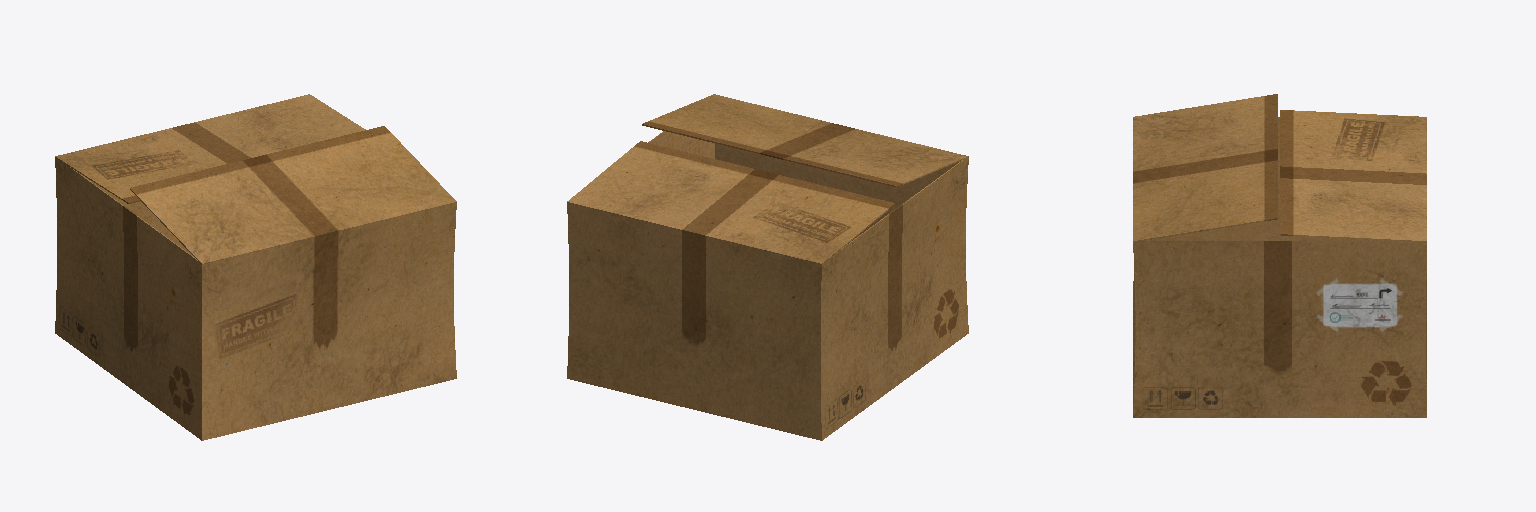
3 views of the same model, side by side, from view 1: azimuth 30°, elevation 25°; view 2: azimuth 150°, elevation 25°; view 3: azimuth 270°, elevation 25° (orthographic).
Visible parts, largest first — view 1: Cube_Cube.001; view 2: Cube_Cube.001; view 3: Cube_Cube.001.
Part boxes in pixels (x1,y1,x2,y2): Cube_Cube.001: (55, 94, 456, 440); Cube_Cube.001: (567, 94, 968, 440); Cube_Cube.001: (1133, 94, 1426, 417).
Size of the model in its own units: 0.651 by 0.4887 by 0.651.
1 materials, 1 textured.